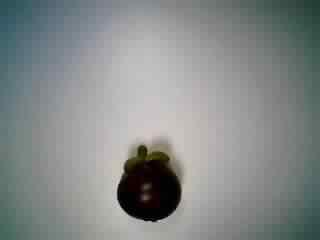mangosteen: (107, 141, 182, 221)
